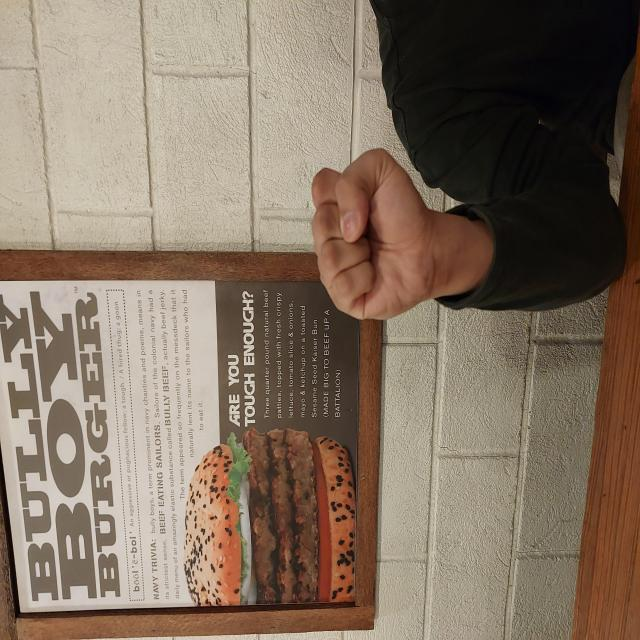S: (318, 309, 494, 438)
